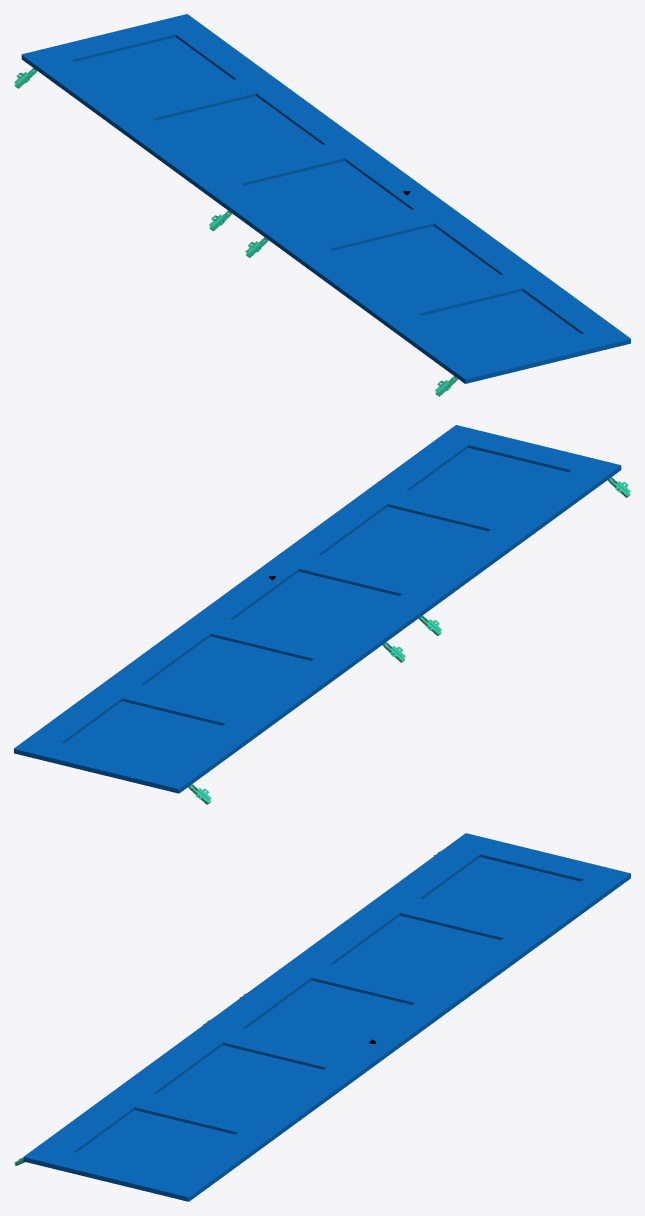
Rendered from dver_3_3.glb.
3 views of the same model, one above another, from view 1: azimuth 30°, elevation 25°; view 2: azimuth 150°, elevation 25°; view 3: azimuth 330°, elevation 25° (orthographic).
Parts seen in each view (by area): view 1: Box003; view 2: Box003; view 3: Box003.
Boxes of the visible parts, x1,y1,x2,y2 form: Box003: (21,14,630,383); Box003: (14,425,621,793); Box003: (23,833,630,1201).
Bounding box in the file's own units: 55.4 × 6.36 × 231.
